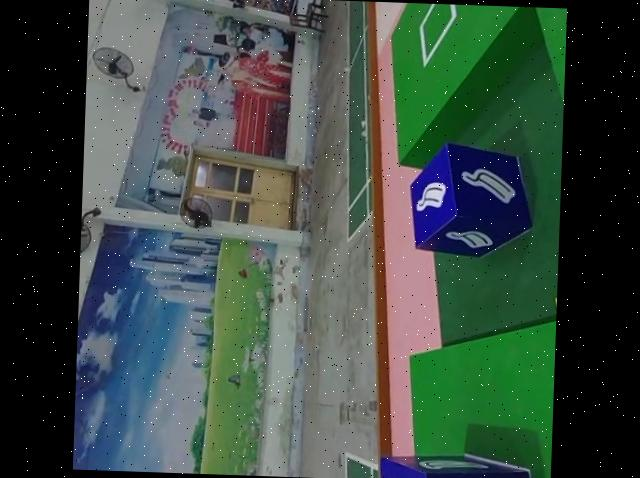R2 Real Blue: (410, 141, 539, 260), (376, 451, 551, 478)
